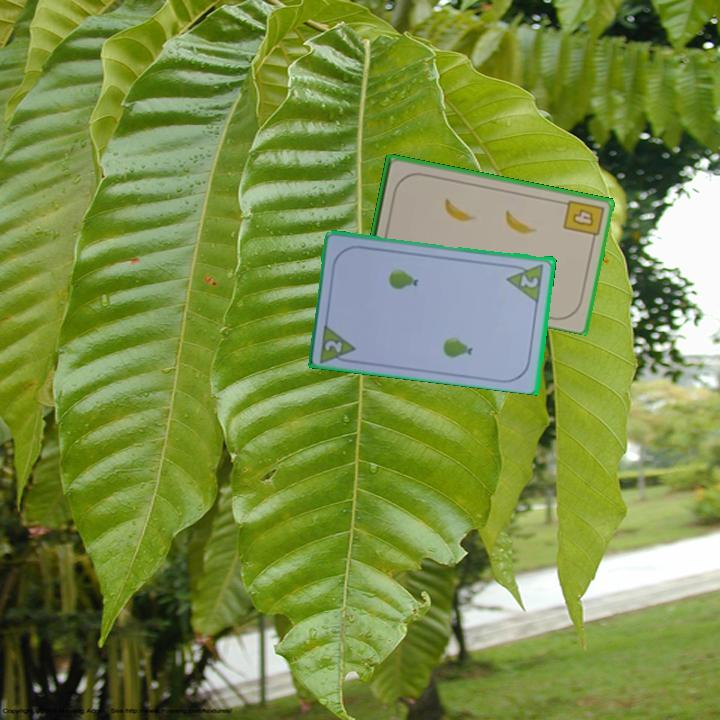2p: (316, 319, 360, 366), (504, 260, 547, 304)
4b: (560, 196, 607, 244)
